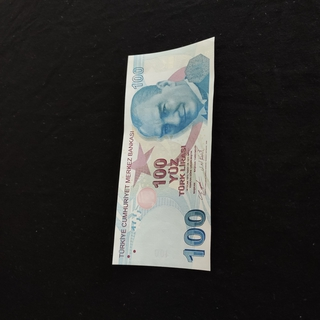100TLFront: (112, 36, 215, 273)
